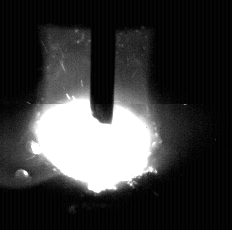arame: (91, 0, 114, 125)
poca: (29, 0, 158, 230)
